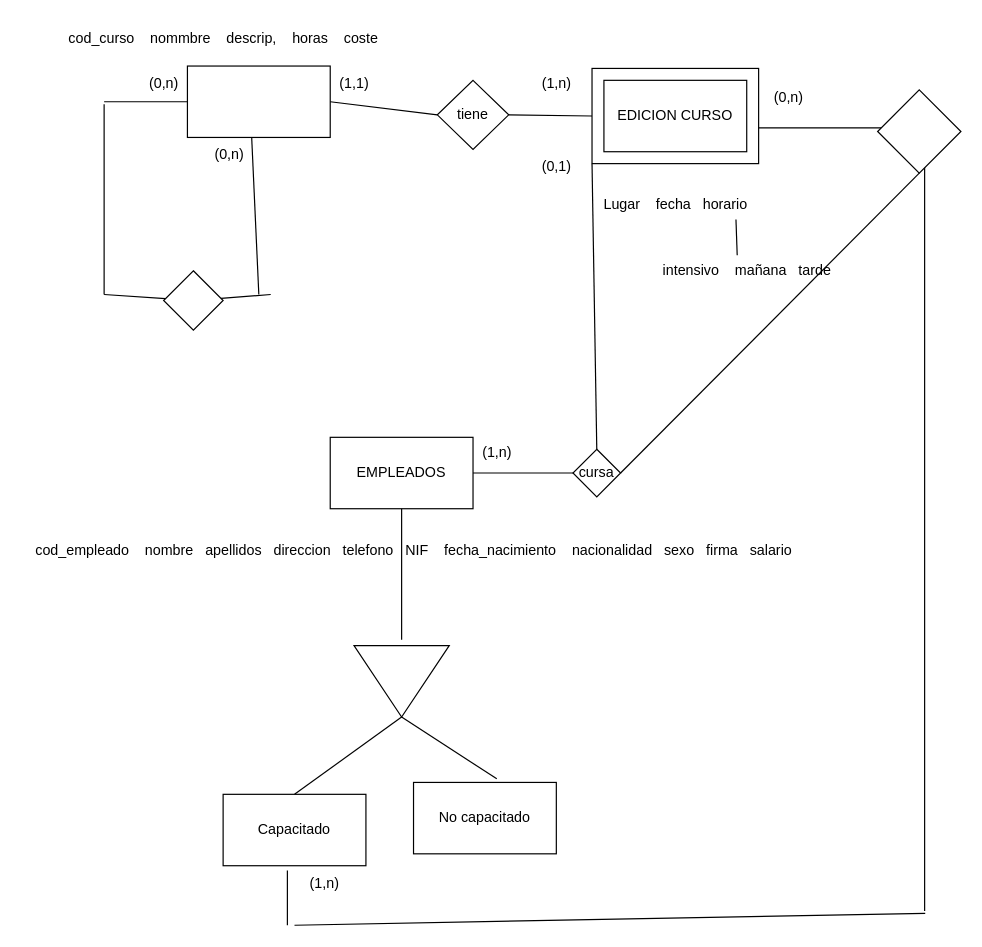
This 982x947 diagram has some shape labels left out. Here are the shapes that lost their labels. From the top down, the centre of each, then its label:
At [258,101]: "CURSOS".
At [918,131]: "imparte".
At [192,300]: "tiene prerrequisito".
